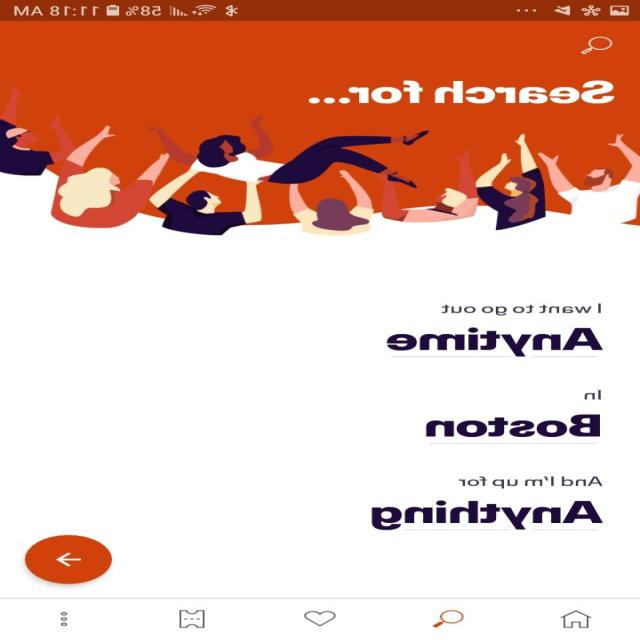Icon: (25, 534, 114, 584), (580, 36, 614, 55), (432, 609, 464, 628), (560, 610, 592, 628), (304, 610, 336, 626), (180, 609, 206, 628), (60, 611, 68, 626)
Image: (1, 21, 640, 235)
Text: (309, 80, 615, 104), (372, 500, 604, 530), (386, 327, 604, 357), (427, 414, 601, 437), (442, 303, 602, 316), (458, 476, 604, 488), (584, 389, 602, 399)
